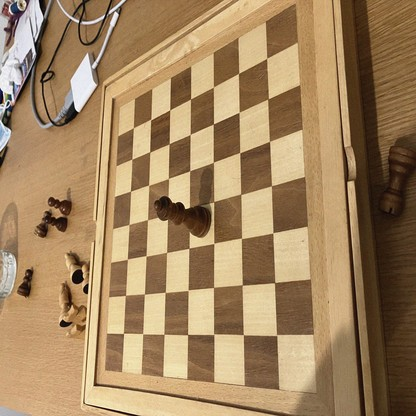bishop_white: (58, 285, 72, 327)
knight_white: (64, 306, 90, 325), (67, 325, 89, 339)
pawn_black: (18, 267, 32, 298), (48, 197, 72, 215), (44, 215, 67, 232), (34, 212, 49, 237)
pawn_white: (83, 262, 90, 294)
queen_black: (155, 197, 211, 237)
queen_white: (64, 252, 84, 284)
rock_black: (379, 145, 414, 215)
